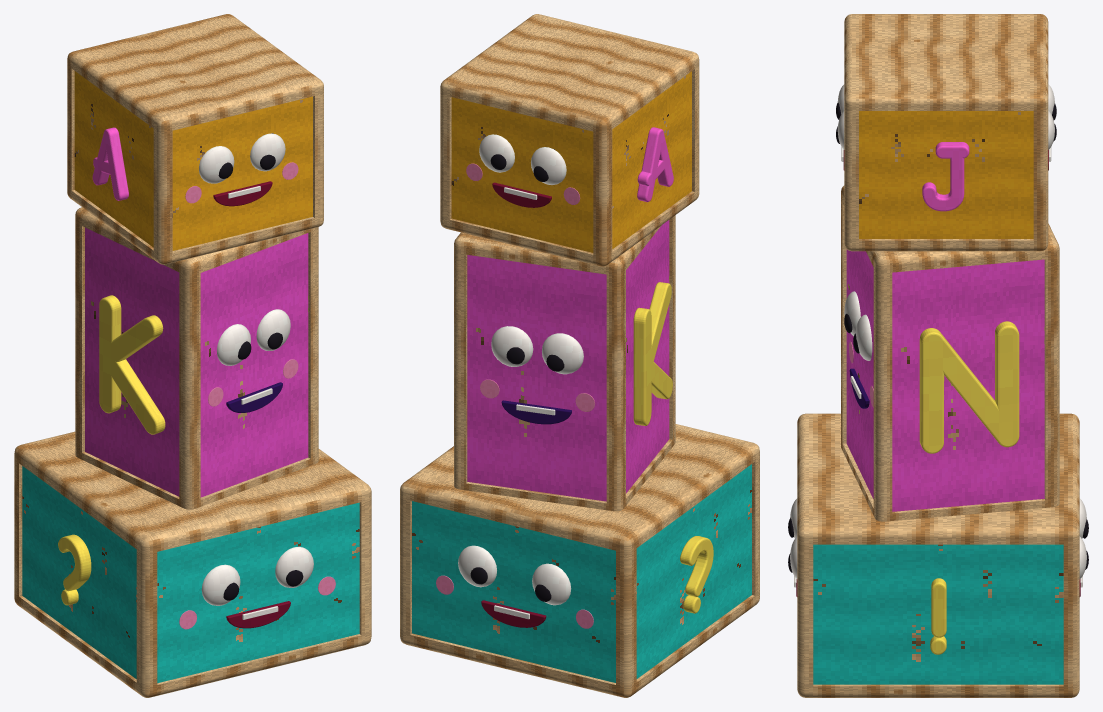
The model's file is p_toytower.glb.
3 renders of one model, left to right at view 1: azimuth 30°, elevation 25°; view 2: azimuth 150°, elevation 25°; view 3: azimuth 270°, elevation 25°, orthographic. The views are drawn at different scales.
Visible parts, largest first — view 1: p_toytower_lod0; view 2: p_toytower_lod0; view 3: p_toytower_lod0.
Boxes of the visible parts, bbox=[...] form: p_toytower_lod0: bbox=[14, 14, 371, 697]; p_toytower_lod0: bbox=[400, 14, 759, 697]; p_toytower_lod0: bbox=[788, 14, 1088, 697].
Size of what is drawn, in the model's own units: 38.35 by 83 by 38.36.
1 material, 1 textured.
